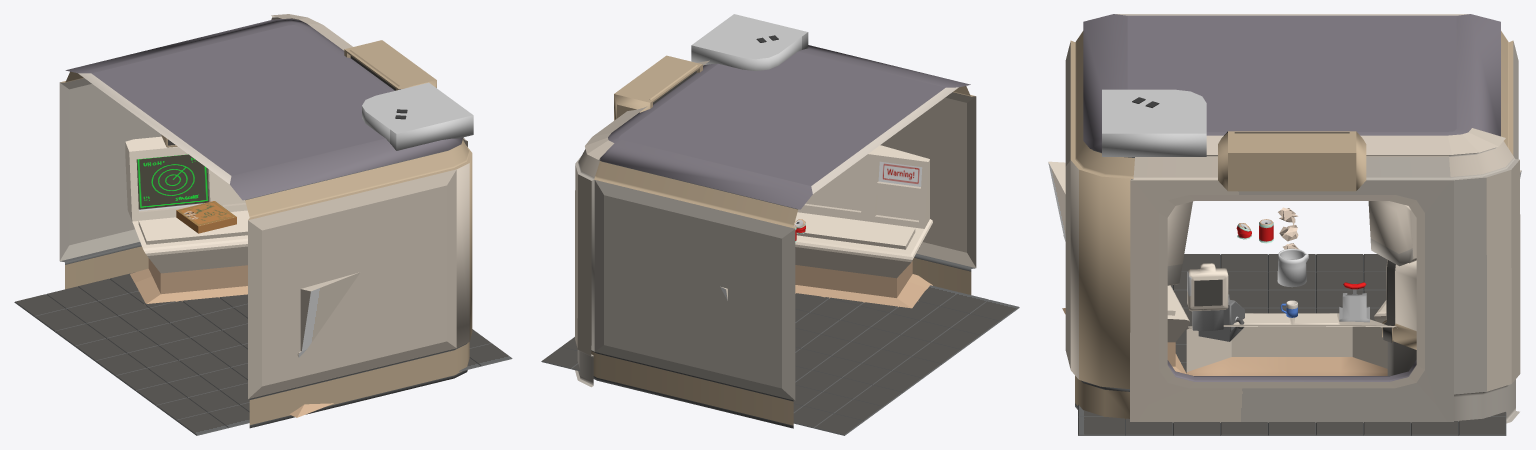
File: Countermeasures.glb
The picture shows the model from 3 angles, left to right: view 1: azimuth 30°, elevation 25°; view 2: azimuth 150°, elevation 25°; view 3: azimuth 270°, elevation 25°; orthographic projection. The views are drawn at different scales.
Parts seen in each view (by area): view 1: Room, SideConsole.001, Cube, SideConsole, IndicatorLight_Base, Pizza_Box_Top; view 2: Room, SideConsole, Cube, IndicatorLight_Base; view 3: Room, MainConsole, IndicatorLight_Base, Cube, CrankCage, Terminal.001, Key_Box, SideConsole, Terminal, Coffee_Jug, HandScanner, LeverBase.
Part boxes in pixels (bbox=[...]): Room: bbox=[14, 14, 512, 435]; SideConsole.001: bbox=[125, 136, 249, 304]; Cube: bbox=[362, 82, 473, 150]; SideConsole: bbox=[289, 272, 360, 417]; IndicatorLight_Base: bbox=[344, 40, 436, 90]; Pizza_Box_Top: bbox=[176, 201, 236, 229]; Room: bbox=[541, 45, 1019, 435]; SideConsole: bbox=[794, 145, 932, 308]; Cube: bbox=[691, 14, 808, 70]; IndicatorLight_Base: bbox=[614, 55, 702, 120]; Room: bbox=[1065, 14, 1520, 435]; MainConsole: bbox=[1186, 313, 1397, 375]; IndicatorLight_Base: bbox=[1218, 131, 1366, 191]; Cube: bbox=[1102, 89, 1206, 156]; CrankCage: bbox=[1382, 259, 1416, 375]; Terminal.001: bbox=[1368, 201, 1416, 266]; Key_Box: bbox=[1187, 263, 1228, 331]; SideConsole: bbox=[1048, 161, 1190, 373]; Terminal: bbox=[1167, 201, 1192, 285]; Coffee_Jug: bbox=[1277, 248, 1308, 287]; HandScanner: bbox=[1198, 294, 1244, 341]; LeverBase: bbox=[1339, 293, 1369, 322].
Size of the model in its own units: 8.2 by 6.34 by 9.06.
Materials: 1 (1 with a texture image).
